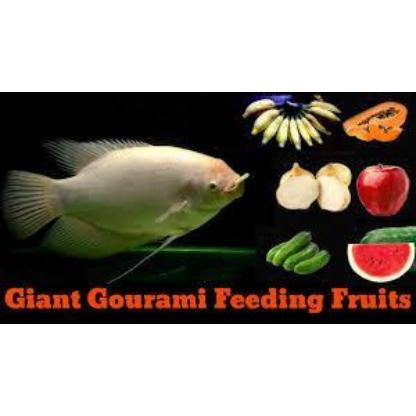gurame: (0, 139, 256, 265)
